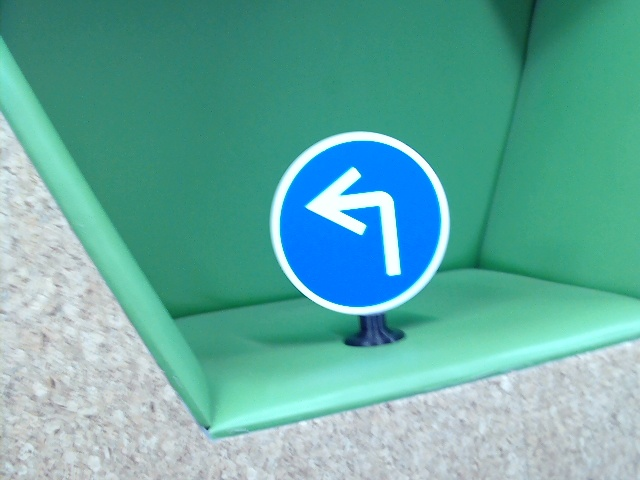turn_left: (306, 164, 405, 278)
